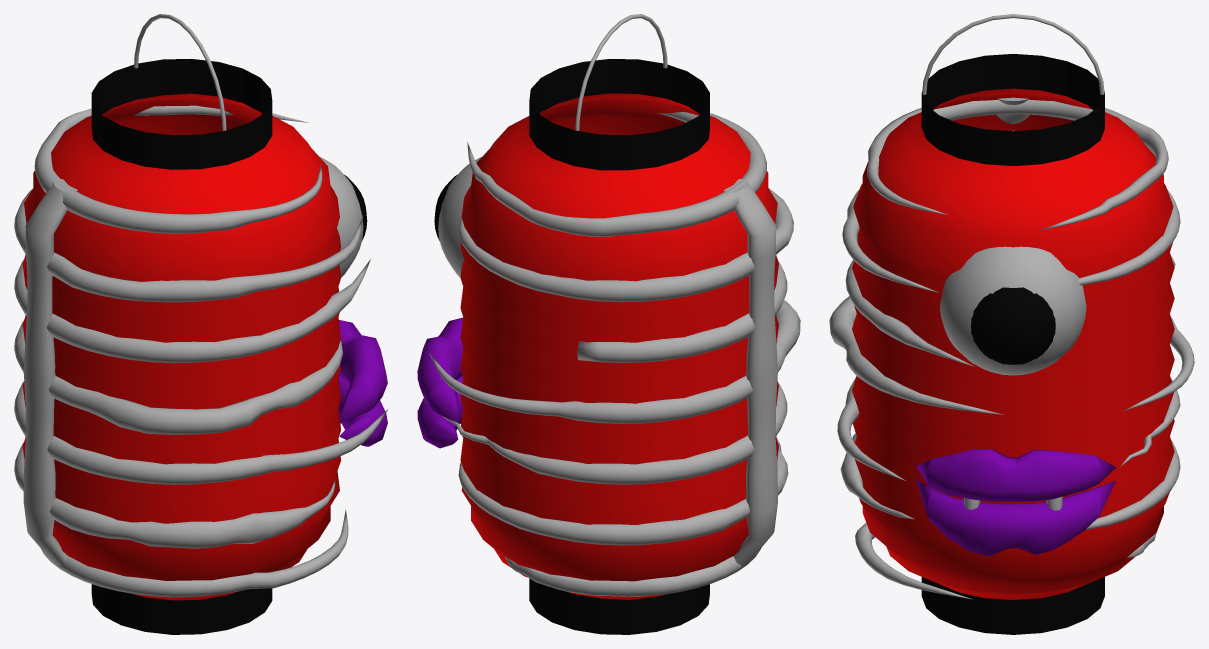
File: lantern.fbx
The picture shows the model from 3 angles, left to right: view 1: azimuth 30°, elevation 25°; view 2: azimuth 150°, elevation 25°; view 3: azimuth 270°, elevation 25°; orthographic projection.
Parts seen in each view (by area): view 1: pCylinder1, pCylinder4, polySurface9, polySurface3, polySurface7, polySurface13, polySurface11, polySurface5, polySurface15, top_rip, pSphere1, under_rip (+1 smaller); view 2: pCylinder1, pCylinder4, polySurface5, polySurface9, polySurface3, polySurface13, polySurface11, polySurface7, polySurface15, top_rip, pSphere1, under_rip (+1 smaller); view 3: pCylinder1, pSphere1, under_rip, top_rip, polySurface3, pSphere2, polySurface9, polySurface5, polySurface13, polySurface11, polySurface7, polySurface15 (+1 smaller).
Part boxes in pixels (x1,y1,x2,y2): pCylinder1: (22,59,341,634); pCylinder4: (23,179,77,566); polySurface9: (14,321,342,434); polySurface3: (34,105,322,233); polySurface7: (14,259,370,363); polySurface13: (14,442,335,548); polySurface11: (14,381,388,484); polySurface5: (14,189,362,302); polySurface15: (40,509,348,597); top_rip: (339,320,387,422); pSphere1: (319,156,363,277); under_rip: (338,376,387,446); pCylinder1: (460,59,778,634); pCylinder4: (723,179,777,567); polySurface5: (458,188,793,302); polySurface9: (429,300,800,423); polySurface3: (467,112,766,236); polySurface13: (458,437,788,545); polySurface11: (441,382,787,484); polySurface7: (577,260,787,362); polySurface15: (505,548,761,596); top_rip: (417,317,463,422); pSphere1: (438,156,482,277); under_rip: (417,376,463,448); pCylinder1: (852,54,1174,634); pSphere1: (940,246,1086,375); under_rip: (916,480,1115,556); top_rip: (916,449,1116,501); polySurface3: (867,99,1168,230); pSphere2: (971,287,1055,364); polySurface9: (829,296,1194,414); polySurface5: (842,189,1180,292); polySurface13: (840,433,1180,529); polySurface11: (837,377,1180,480); polySurface7: (845,256,1175,366); polySurface15: (855,523,1156,599).
Size of the model in its own units: 37.03 by 59.61 by 33.94.
